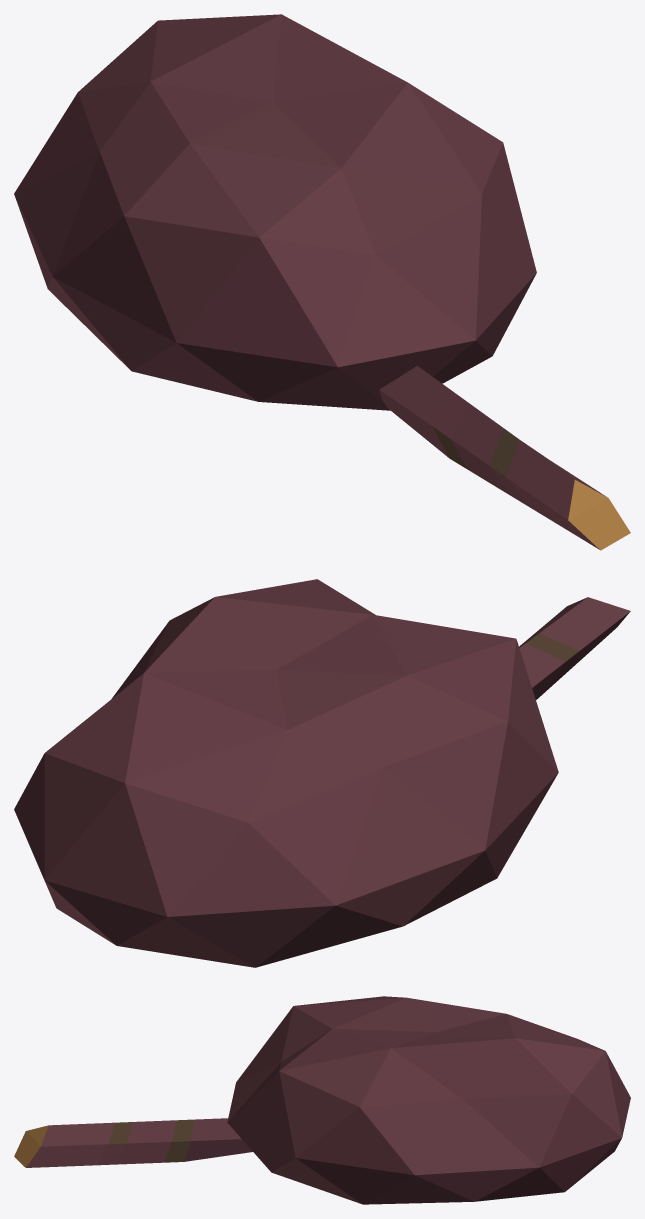
Rendered from tree-birch-debris-h.fbx.
3 renders of one model, top to bottom at view 1: azimuth 30°, elevation 25°; view 2: azimuth 150°, elevation 25°; view 3: azimuth 270°, elevation 25°, orthographic. The views are drawn at different scales.
Visible parts, largest first — view 1: tree-birch-debris-h; view 2: tree-birch-debris-h; view 3: tree-birch-debris-h.
Part boxes in pixels (x1,y1,x2,y2): tree-birch-debris-h: (14,14,630,550); tree-birch-debris-h: (14,579,630,967); tree-birch-debris-h: (14,996,630,1204).
Bounding box in the file's own units: 1.49 × 0.7633 × 2.99.
